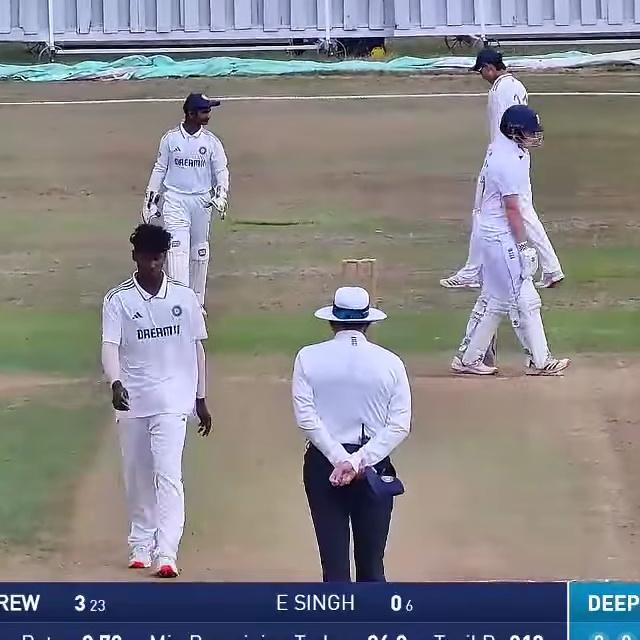umpire: (275, 275, 424, 587)
